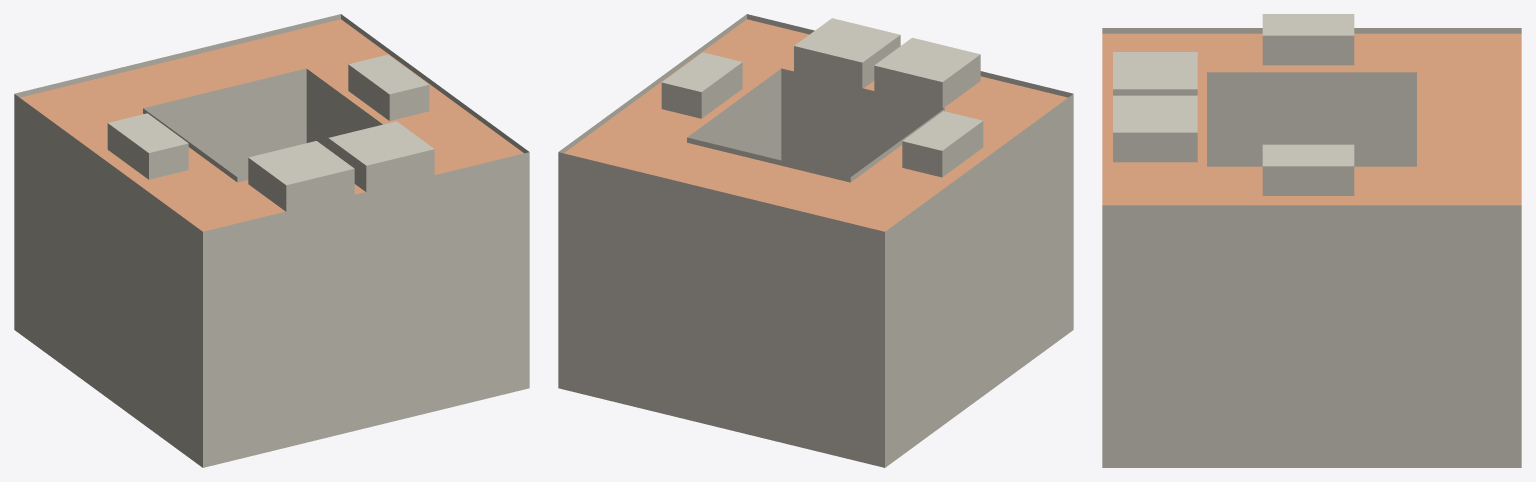
The picture shows the model from 3 angles, left to right: view 1: azimuth 30°, elevation 25°; view 2: azimuth 150°, elevation 25°; view 3: azimuth 270°, elevation 25°; orthographic projection. The views are drawn at different scales.
Parts seen in each view (by area): view 1: Object_9, Object_7, Object_6, Object_3, Object_2, Object_1, Object_4, Object_8, Object_5; view 2: Object_9, Object_7, Object_6, Object_3, Object_2, Object_4, Object_1, Object_8, Object_5; view 3: Object_9, Object_7, Object_6, Object_2, Object_4, Object_1, Object_3, Object_8, Object_5.
Boxes of the visible parts, <box> form: Object_9: <box>14,14,529,467</box>; Object_7: <box>20,19,523,231</box>; Object_6: <box>143,68,382,182</box>; Object_3: <box>248,141,354,211</box>; Object_2: <box>328,121,434,191</box>; Object_1: <box>107,113,188,179</box>; Object_4: <box>348,54,429,120</box>; Object_8: <box>14,14,529,234</box>; Object_5: <box>144,69,380,181</box>; Object_9: <box>558,14,1073,467</box>; Object_7: <box>564,19,1067,231</box>; Object_6: <box>687,68,944,182</box>; Object_3: <box>874,37,980,107</box>; Object_2: <box>794,18,900,88</box>; Object_4: <box>661,52,742,118</box>; Object_1: <box>902,111,983,177</box>; Object_8: <box>558,15,1073,236</box>; Object_5: <box>687,68,944,182</box>; Object_9: <box>1102,28,1521,467</box>; Object_7: <box>1102,33,1521,205</box>; Object_6: <box>1207,72,1416,166</box>; Object_2: <box>1113,95,1197,162</box>; Object_4: <box>1262,144,1354,195</box>; Object_1: <box>1262,14,1354,65</box>; Object_3: <box>1113,52,1197,95</box>; Object_8: <box>1102,28,1521,210</box>; Object_5: <box>1207,72,1416,166</box>.
Bounding box in the file's own units: 1283 × 1283 × 966.
